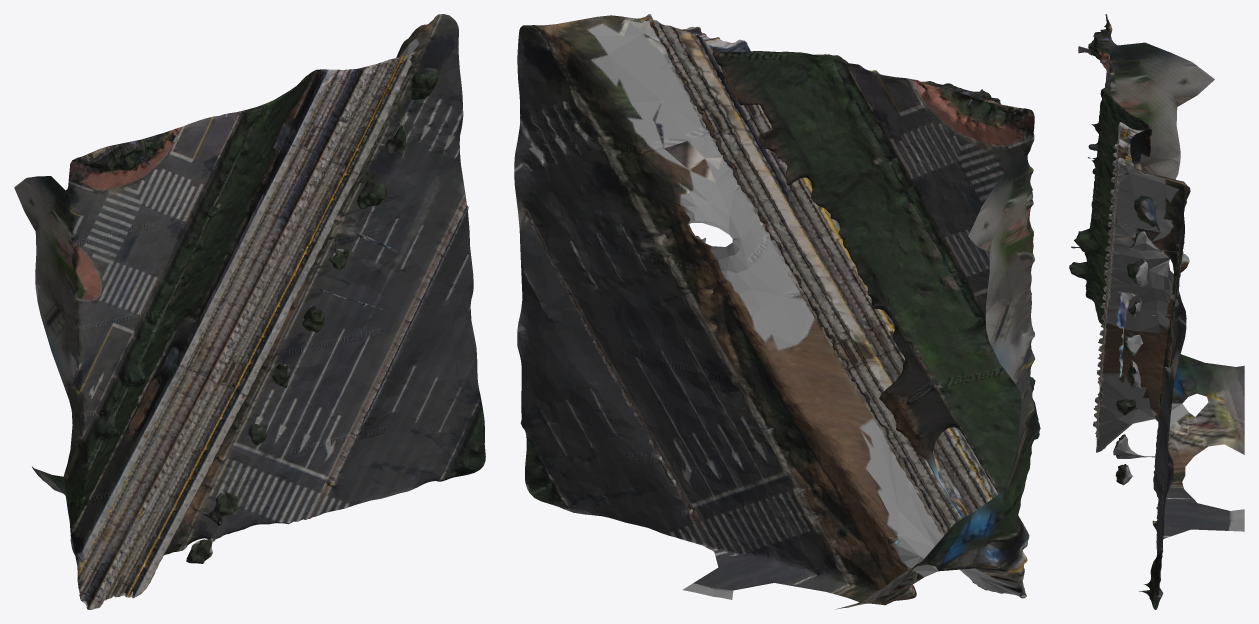
Rendered from Tile_+010_+005.obj.
3 renders of one model, left to right at view 1: azimuth 30°, elevation 25°; view 2: azimuth 150°, elevation 25°; view 3: azimuth 270°, elevation 25°, orthographic. The views are drawn at different scales.
Parts seen in each view (by area): view 1: Mesh; view 2: Mesh; view 3: Mesh.
Part boxes in pixels (<box>): Mesh: <box>14,14,485,609</box>; Mesh: <box>514,14,1040,609</box>; Mesh: <box>1069,14,1244,609</box>.
Bounding box in the file's own units: 61.57 × 61.59 × 23.04.
1 material, 1 textured.
